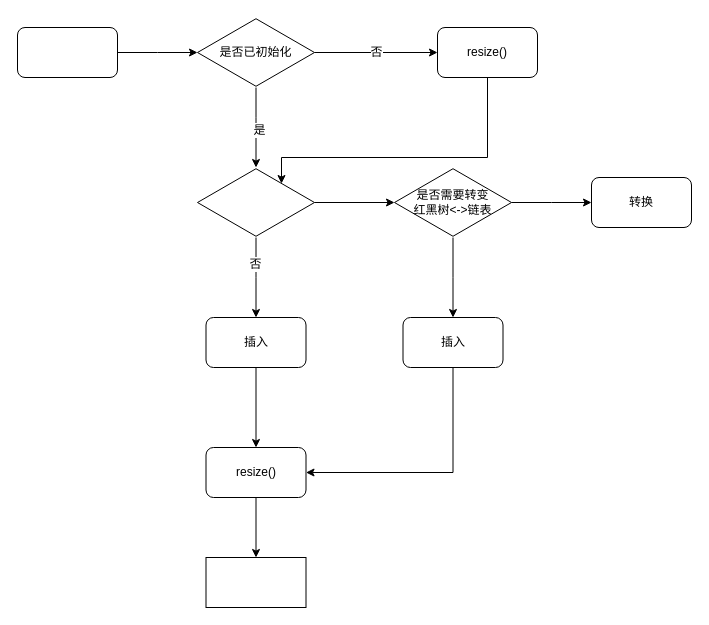
Image size: 709x625. Some labels were removed from this diagram. The box of each missing label's shape, as (x1, y1, x2, y2) in pixels:
put: (16, 26, 118, 78)
数组位置已有元素？: (196, 166, 314, 238)
结束: (205, 556, 306, 608)
